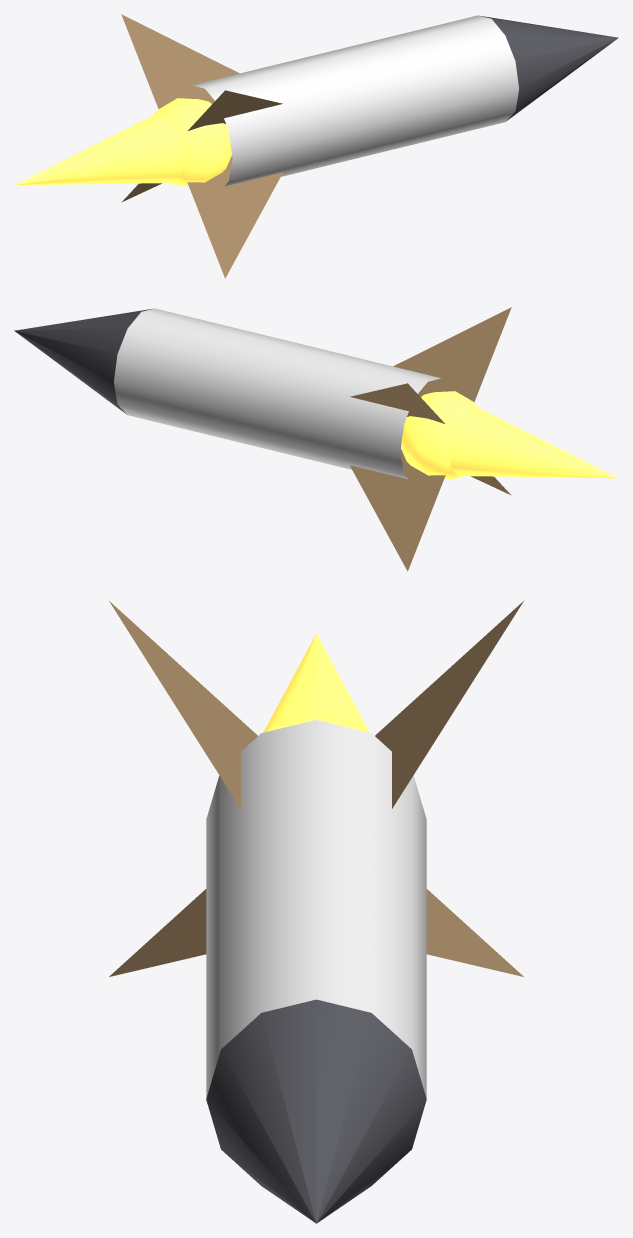
The model's file is rocket_rack.glb.
The picture shows the model from 3 angles, top to bottom: view 1: azimuth 30°, elevation 25°; view 2: azimuth 150°, elevation 25°; view 3: azimuth 270°, elevation 25°; orthographic projection. The views are drawn at different scales.
Parts seen in each view (by area): view 1: model; view 2: model; view 3: model.
Boxes of the visible parts, left/top/right/bottom form: model: left=14, top=14, right=618, bottom=278; model: left=14, top=307, right=618, bottom=571; model: left=109, top=601, right=523, bottom=1223.
Size of the model in its own units: 0.76 by 0.2263 by 0.2263.
